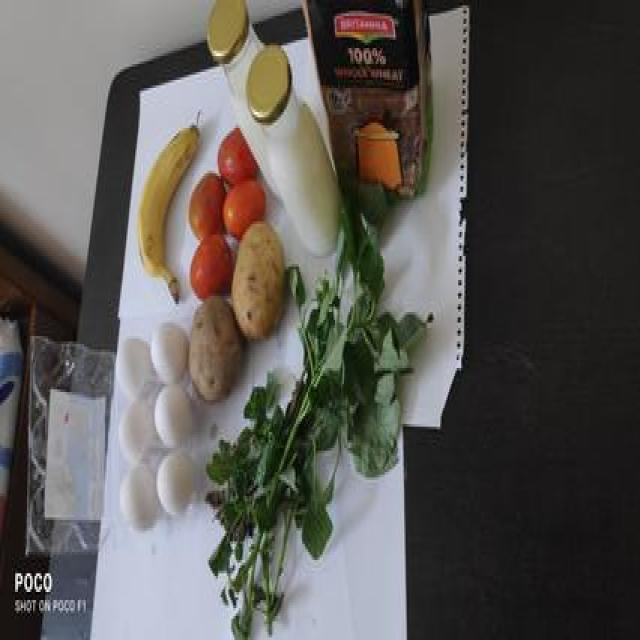Fresh_Spinach: (225, 190, 403, 633)
Fresh_tomato: (185, 244, 236, 302), (222, 180, 265, 235), (187, 174, 228, 229), (217, 140, 250, 180)
